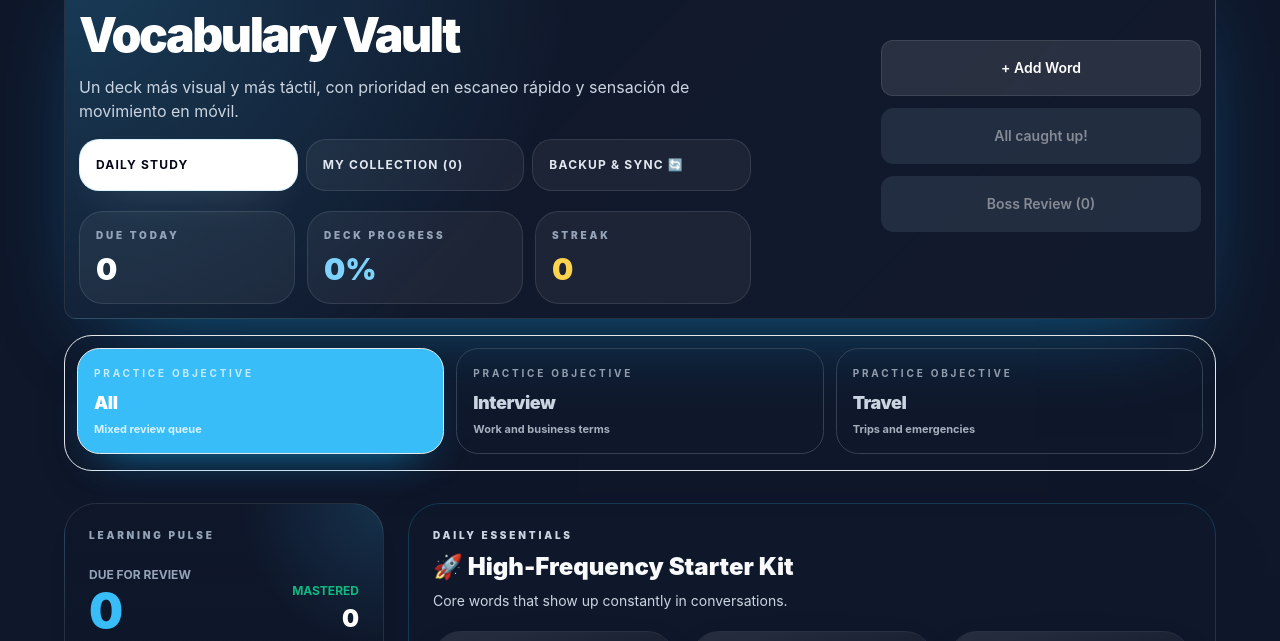
Scenario: VocabularyVaultView flows › empty vault: shows import sample and add first word CTAs
What coordinates should you click on to do the following:
click the button "My Collection (0)"
I would click on:
 (415, 165)
Its box is [306,139,524,191].
(page scrolled)
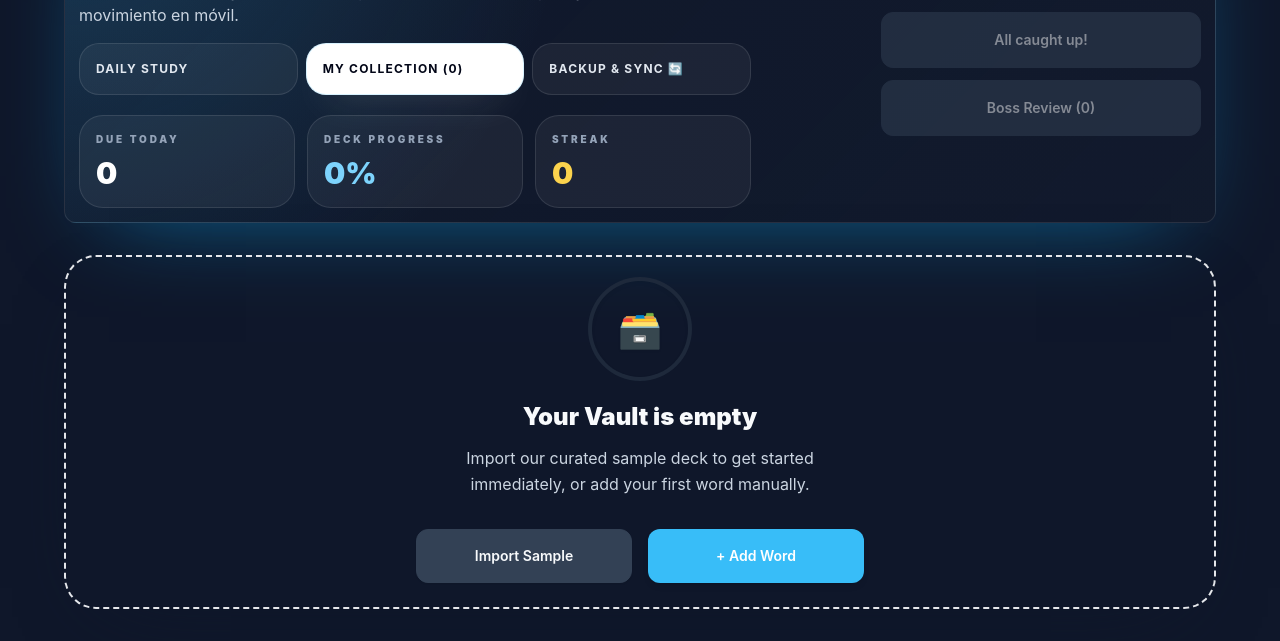
Now the heading "Your Vault is empty" is shown, box [523,401,757,433]
Now the text "Import our curated sample deck" is shown, box [466,448,814,494]
Now the button "Import Sample" is shown, box [416,529,632,583]
